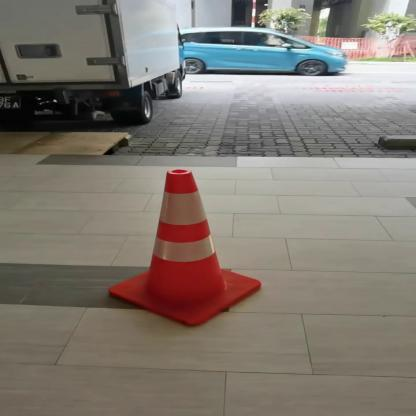cone: (106, 168, 261, 332)
